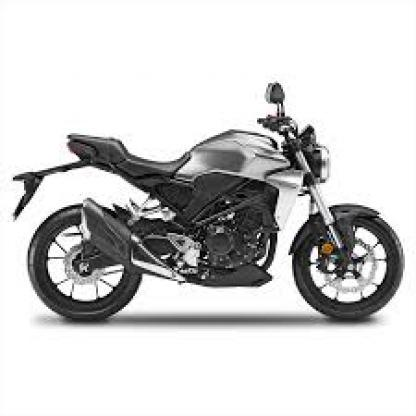Motorcycle: (17, 81, 405, 325)
